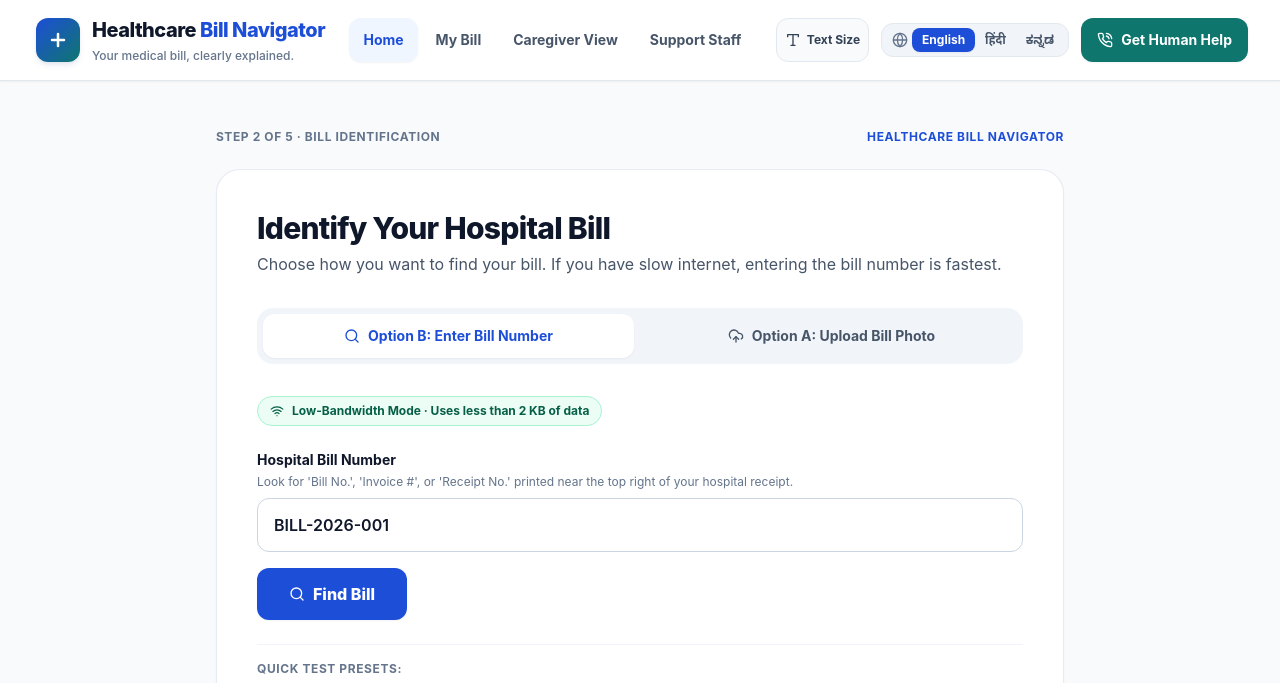
Test: IdentifyPage › displays not found state for NOTFOUND-99
Replace the text in the field labelled "Hospital Bill Number" with "NOTFOUND-99" at (640, 525), box [257, 498, 1023, 552]
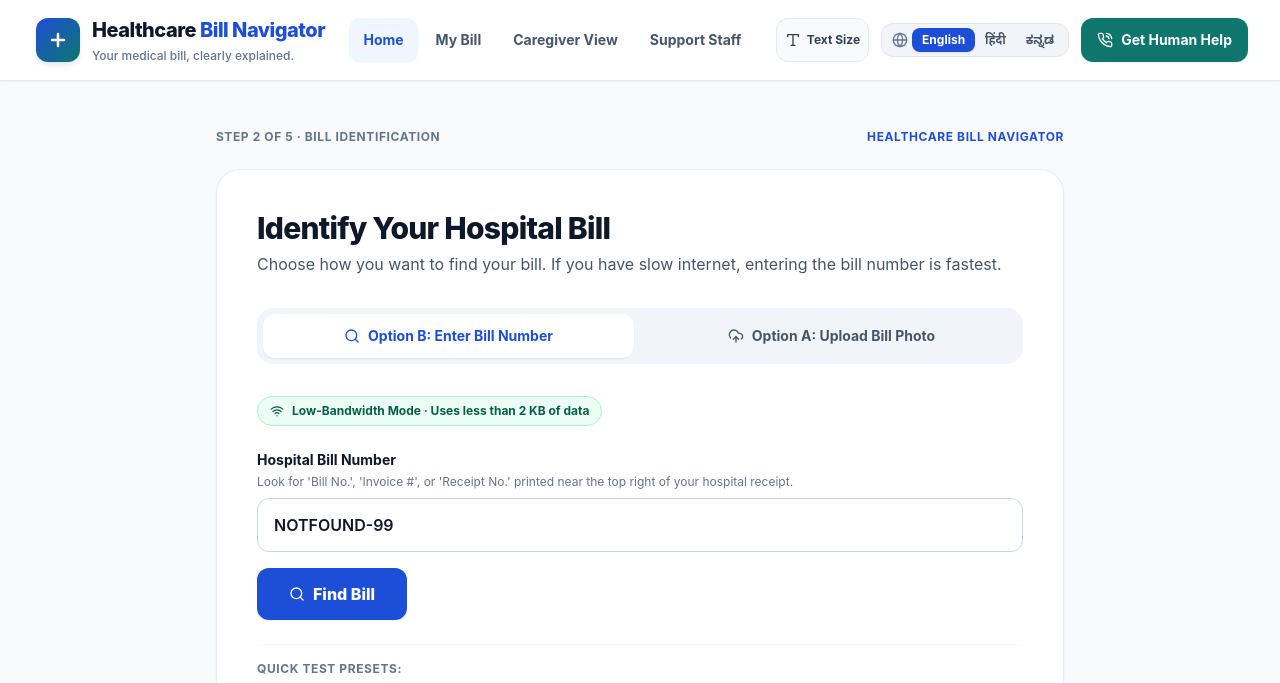
Click the button "Find Bill".
click(332, 594)  # box [257, 568, 407, 620]
(page scrolled)
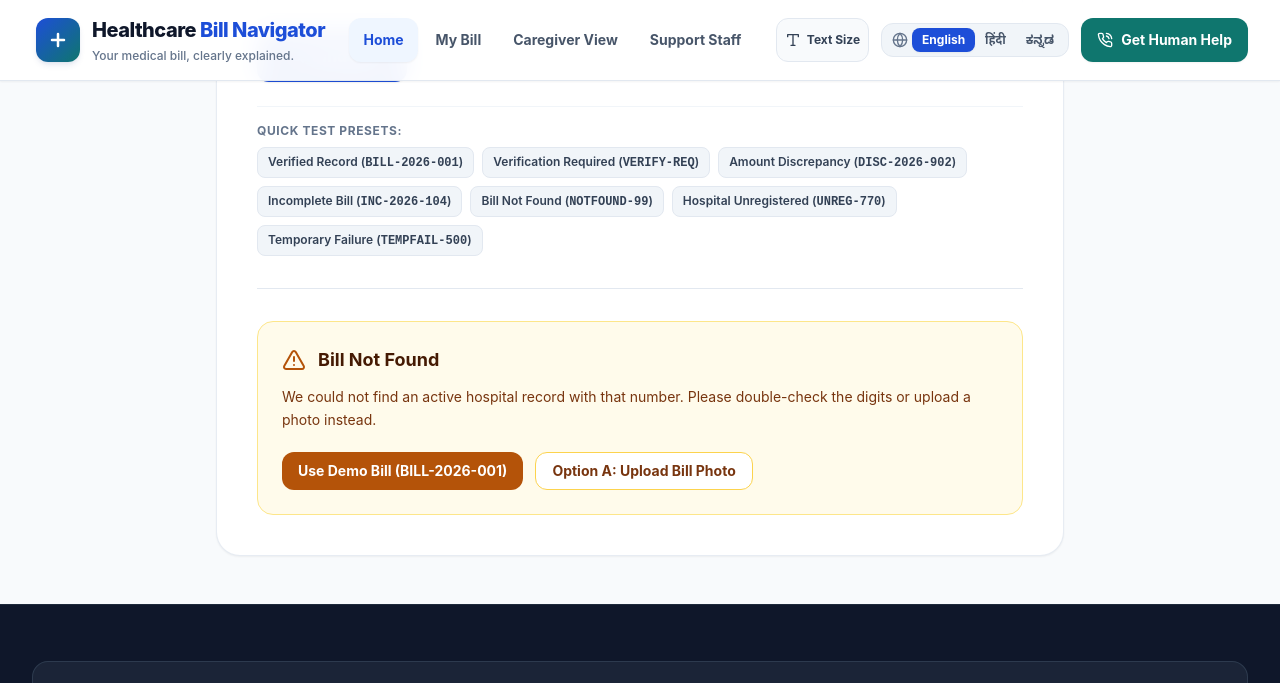
Check: the heading "Bill Not Found" is shown, box [318, 346, 439, 374]
